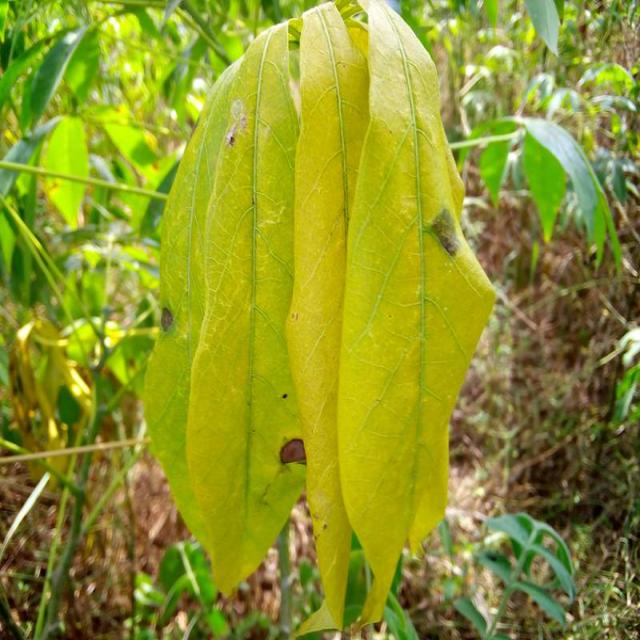cassava leaf: (140, 0, 496, 635), (333, 0, 496, 631), (142, 16, 306, 598)
